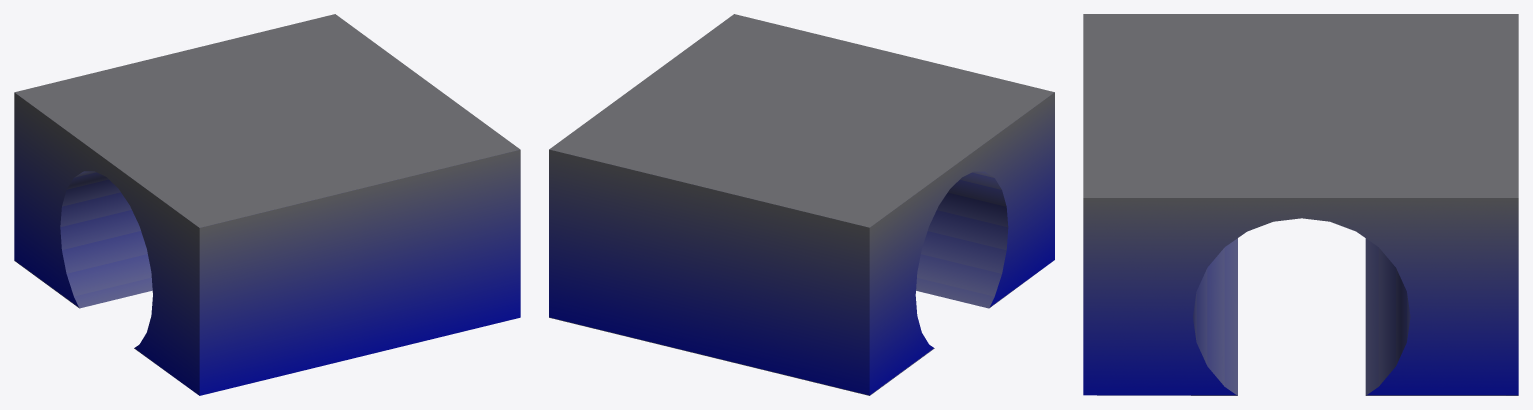
Rendered from Straight Hallway.dae.
3 views of the same model, side by side, from view 1: azimuth 30°, elevation 25°; view 2: azimuth 150°, elevation 25°; view 3: azimuth 270°, elevation 25° (orthographic). The views are drawn at different scales.
Parts seen in each view (by area): view 1: SketchUp (×2); view 2: SketchUp (×2); view 3: SketchUp (×2).
Part boxes in pixels (x1,y1,x2,y2): SketchUp (×2): (14,14,520,395); SketchUp (×2): (549,14,1054,395); SketchUp (×2): (1083,14,1518,395).
Size of the model in its own units: 787 by 787 by 395.
Materials: 3 (1 with a texture image).
